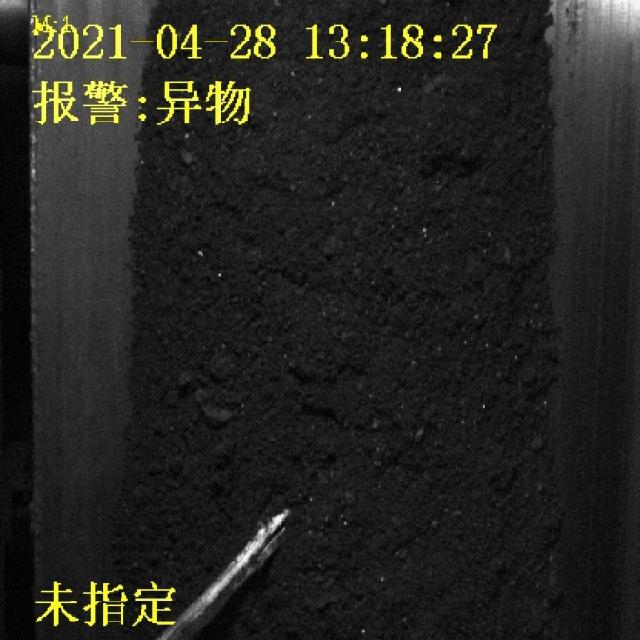bolt: (163, 506, 303, 640)
